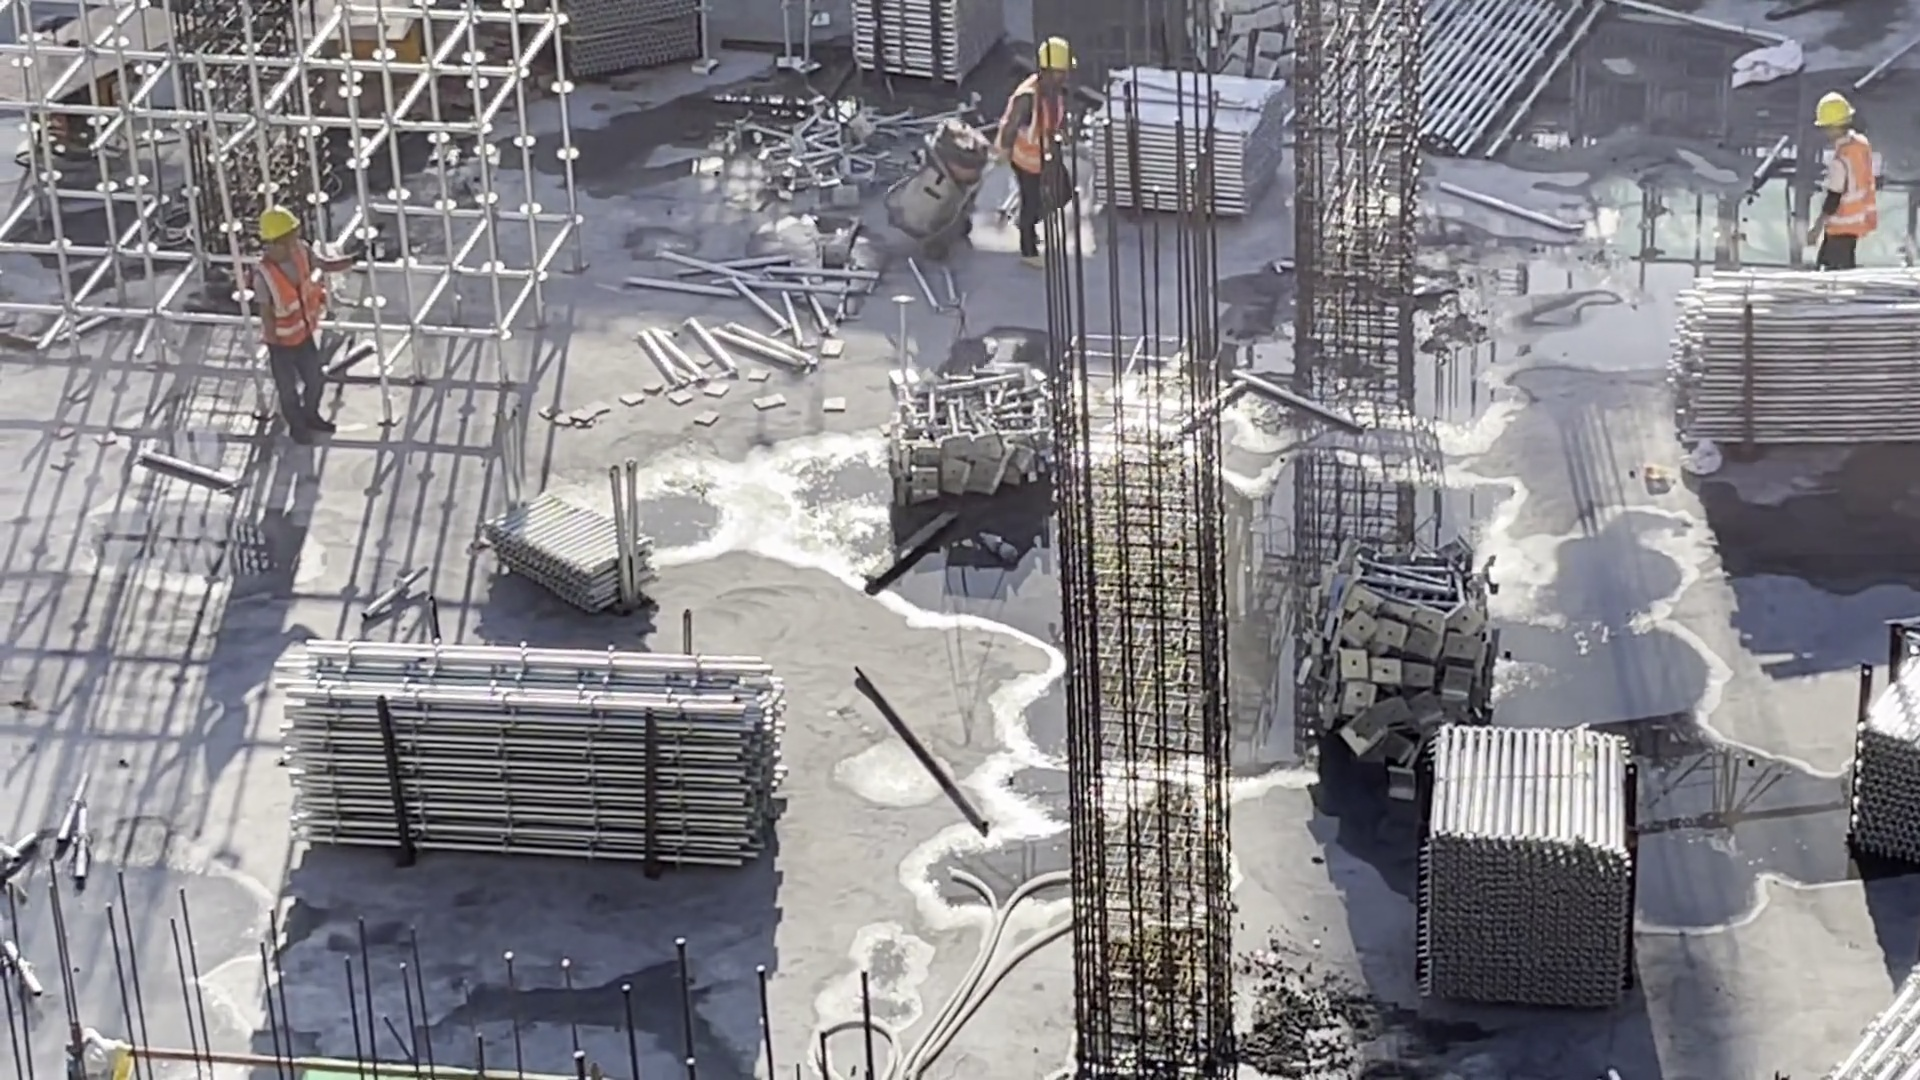cutter: (4, 8, 249, 169), (300, 1, 438, 100)
helmet: (260, 193, 301, 243), (1040, 38, 1091, 74), (1815, 89, 1856, 131)
person: (249, 206, 349, 437), (989, 32, 1082, 260), (1804, 76, 1896, 265)
scaffold: (290, 636, 771, 887), (1410, 724, 1641, 1012), (1309, 545, 1505, 807), (1662, 268, 1906, 443), (1397, 1, 1620, 152), (1080, 71, 1296, 212), (887, 370, 1066, 512), (492, 487, 647, 623), (1825, 638, 1920, 855), (853, 7, 1016, 80), (548, 1, 714, 73), (762, 109, 876, 199), (1828, 971, 1920, 1075), (1210, 1, 1293, 99)
vest: (251, 249, 337, 346), (991, 83, 1071, 169), (1823, 137, 1872, 237)
